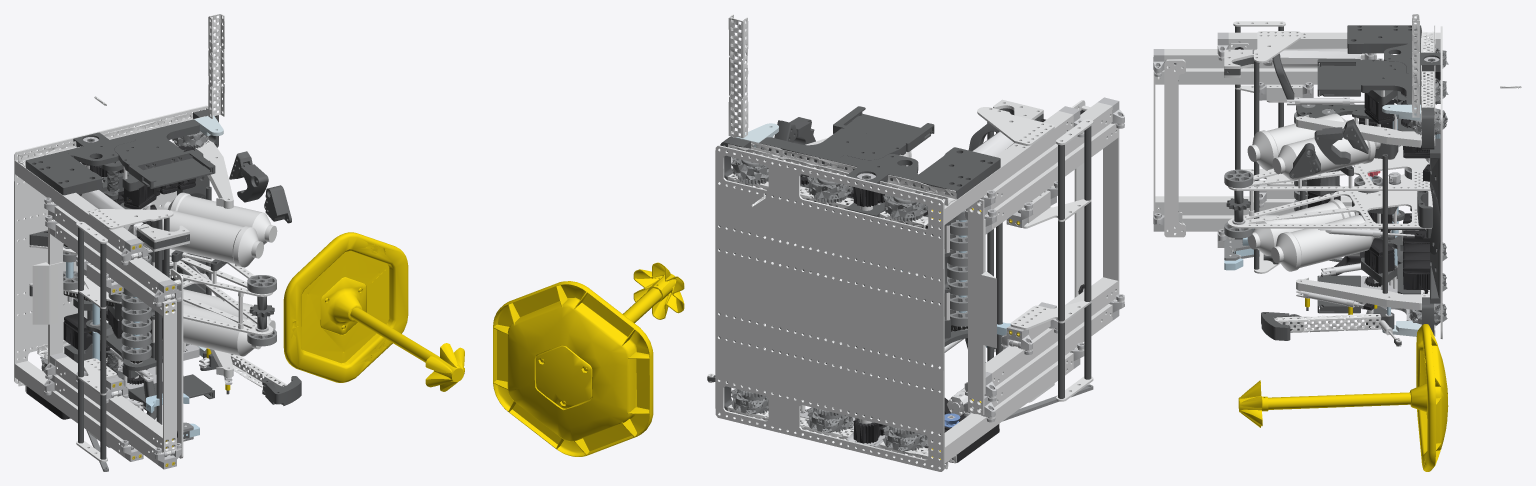
The model's file is vexu.glb.
3 renders of one model, left to right at view 1: azimuth 30°, elevation 25°; view 2: azimuth 150°, elevation 25°; view 3: azimuth 270°, elevation 25°, orthographic. The views are drawn at different scales.
Visible parts, largest first — view 1: mogo, Part 1.010, tank.003, tank.002, Part 2.007, Part 3.009, tank.001, Part 1.013, plate, Part 4.001, Part 1.055, Triangle (+28 smaller); view 2: Part 1.010, mogo, plate.002, Part 1.052, Part 1.055, 2.75" Anti-Static Omni-Directional Wheel (220mm Travel) (276 (×4), Part 3.009, Part 4.001, Part 2.007, plate, 1 x 2 x 1 xâââ ââââ15âââ ââââAluminum C-Channel (276-2289), Part 3.010 (+13 smaller); view 3: mogo, conveyor plate Left, tank, back gusset, Conveyor Plate Right, Part 3.010, Part 5, tank.001, Part 3.009, Part 2.007, tank.003, tank.002 (+39 smaller).
Boxes of the visible parts, box(x1,y1,x2,y2) form: mogo: box(283, 232, 464, 391); Part 1.010: box(14, 105, 208, 383); tank.003: box(162, 210, 263, 267); tank.002: box(183, 304, 261, 356); Part 2.007: box(26, 151, 102, 195); Part 3.009: box(55, 356, 162, 451); tank.001: box(163, 192, 277, 244); Part 1.013: box(129, 150, 215, 188); plate: box(163, 299, 176, 452); Part 4.001: box(114, 119, 199, 171); Part 1.055: box(14, 160, 137, 252); Triangle: box(32, 262, 63, 324); Part 1.010: box(715, 145, 944, 471); mogo: box(493, 262, 684, 456); plate.002: box(968, 199, 984, 415); Part 1.052: box(933, 352, 1073, 463); Part 1.055: box(940, 111, 1073, 224); 2.75" Anti-Static Omni-Directional Wheel (220mm Travel) (276 (×4): box(806, 176, 928, 451); Part 3.009: box(985, 277, 1118, 386); Part 4.001: box(759, 128, 905, 166); Part 2.007: box(912, 147, 1000, 199); plate: box(1103, 128, 1119, 294); 1 x 2 x 1 xâââ ââââ15âââ ââââAluminum C-Channel (276-2289): box(728, 14, 748, 138); Part 3.010: box(992, 123, 1118, 229); mogo: box(1238, 324, 1448, 471); conveyor plate Left: box(1228, 174, 1432, 228); tank: box(1271, 215, 1378, 271); back gusset: box(1164, 60, 1185, 237); Conveyor Plate Right: box(1228, 145, 1430, 190); Part 3.010: box(1155, 68, 1317, 84); Part 5: box(1296, 277, 1420, 310); tank.001: box(1272, 124, 1380, 180); Part 3.009: box(1155, 196, 1358, 215); Part 2.007: box(1347, 25, 1420, 53); tank.003: box(1247, 113, 1349, 170); tank.002: box(1247, 199, 1355, 255).
Size of the model in its own units: 0.8022 by 0.7551 by 0.6483.
